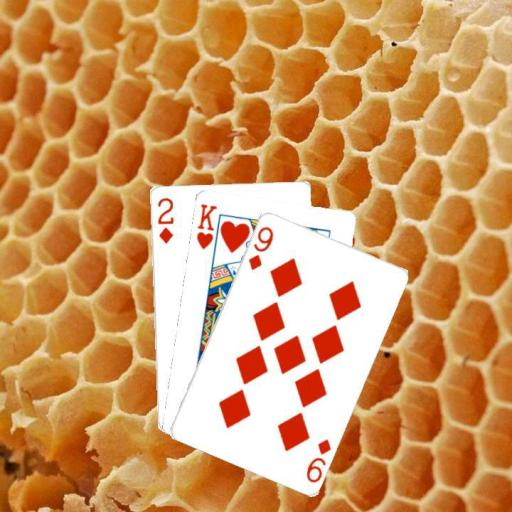2D: (154, 194, 174, 245)
9D: (302, 435, 333, 484), (245, 223, 275, 272)
KH: (193, 201, 218, 251)
